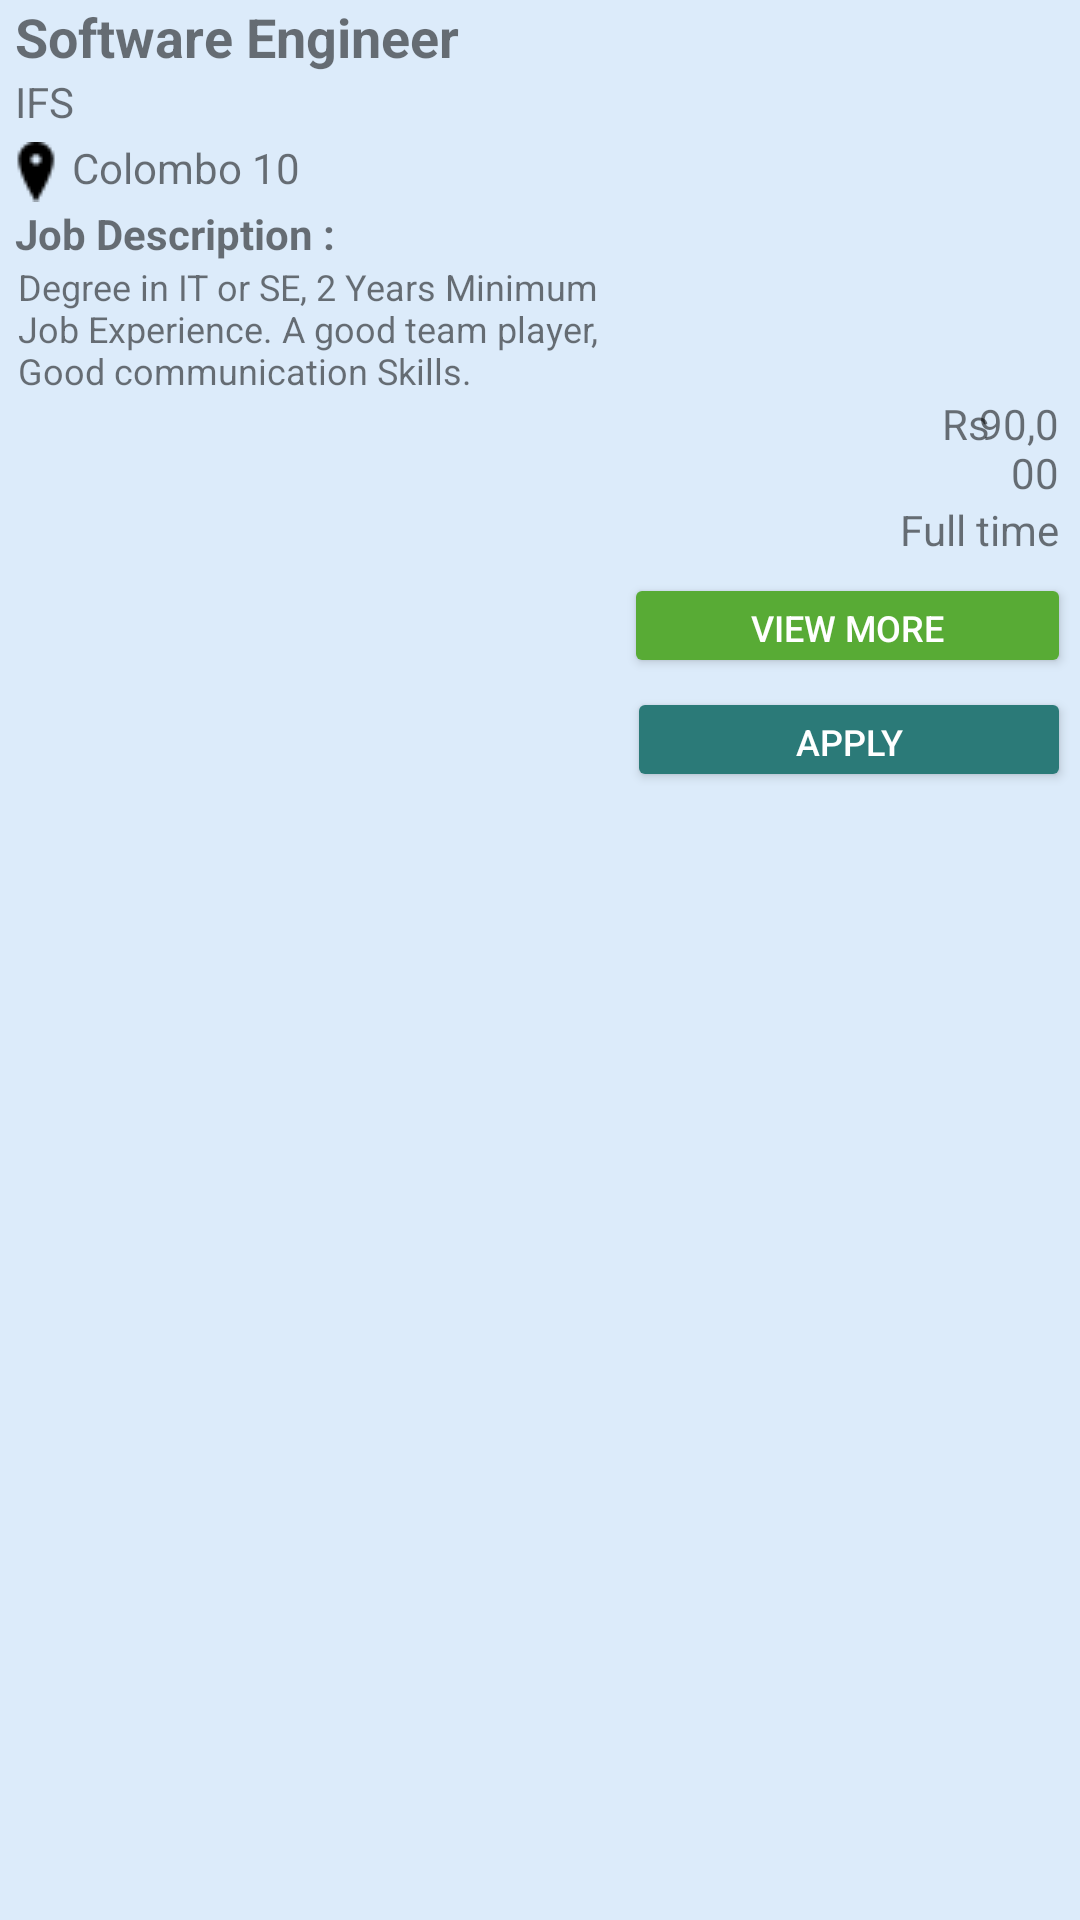

Locate icon controls on the screen. Image size 1080w x 1920h, boxes as (x1, y1, x2, y2).
location: (17, 142, 55, 202)
